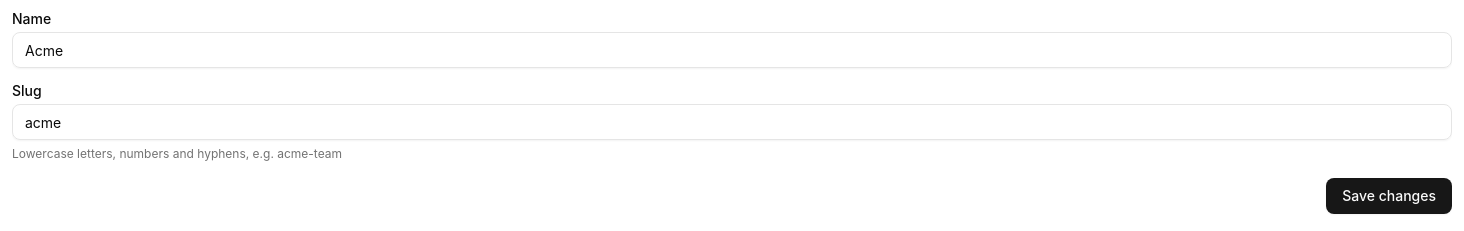
Scenario: UpdateOrganizationForm › maps a slug conflict to the slug field
The width and height of the screenshot is (1464, 231).
Click the button "Save changes".
click(1389, 196)  # box left=1326, top=178, right=1452, bottom=214
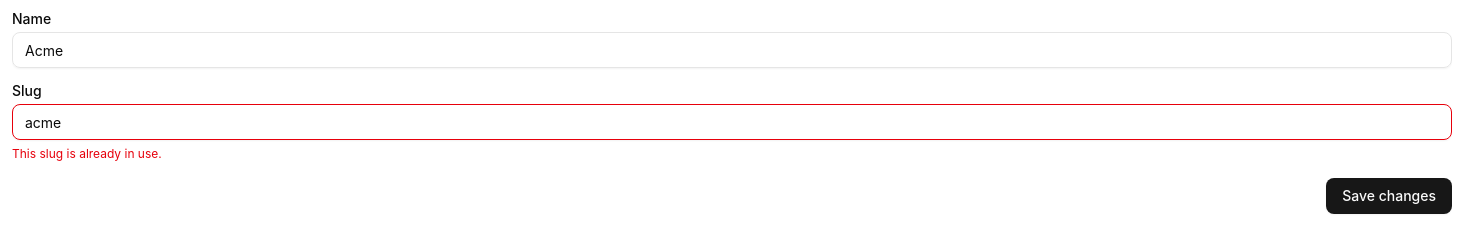
Now the text "This slug is already in use." is shown, box left=12, top=146, right=162, bottom=161
